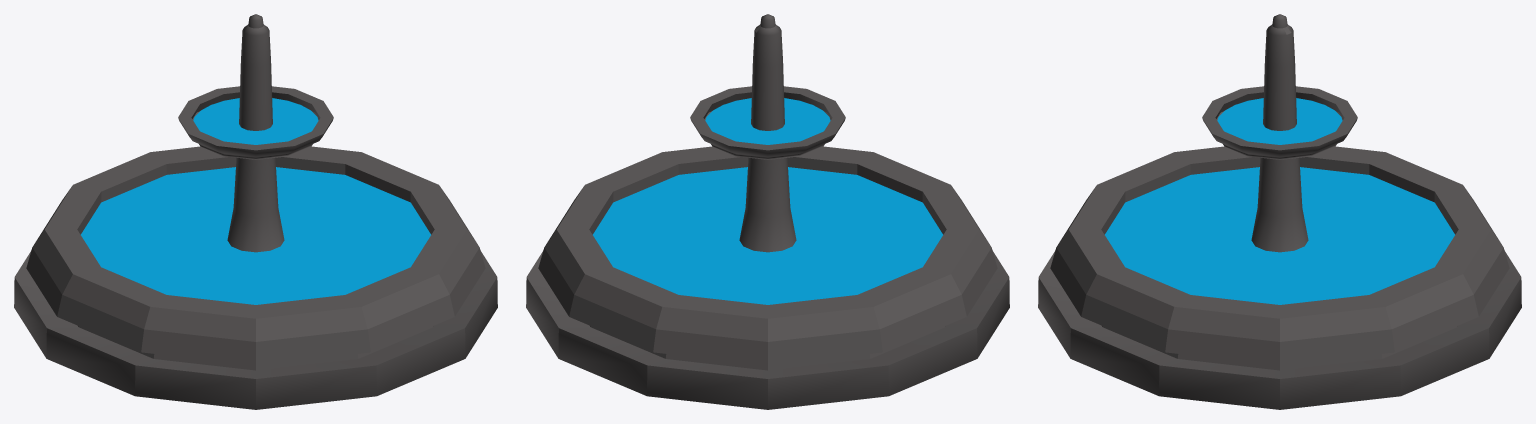
The model's file is Fontain.fbx.
The picture shows the model from 3 angles, left to right: view 1: azimuth 30°, elevation 25°; view 2: azimuth 150°, elevation 25°; view 3: azimuth 270°, elevation 25°; orthographic projection.
Parts seen in each view (by area): view 1: Escenario__1_:pTorus1polySurface2; view 2: Escenario__1_:pTorus1polySurface2; view 3: Escenario__1_:pTorus1polySurface2.
Boxes of the visible parts, left/top/right/bottom form: Escenario__1_:pTorus1polySurface2: left=14, top=14, right=497, bottom=409; Escenario__1_:pTorus1polySurface2: left=526, top=14, right=1009, bottom=409; Escenario__1_:pTorus1polySurface2: left=1038, top=14, right=1521, bottom=409.
Size of the model in its own units: 8.65 by 5.88 by 8.65.
